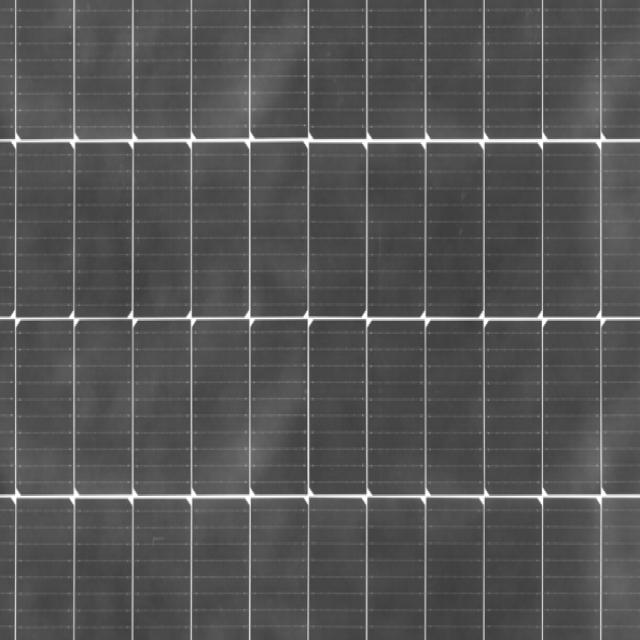CORRECT: (165, 0, 483, 637), (355, 1, 640, 640), (3, 0, 266, 640)
